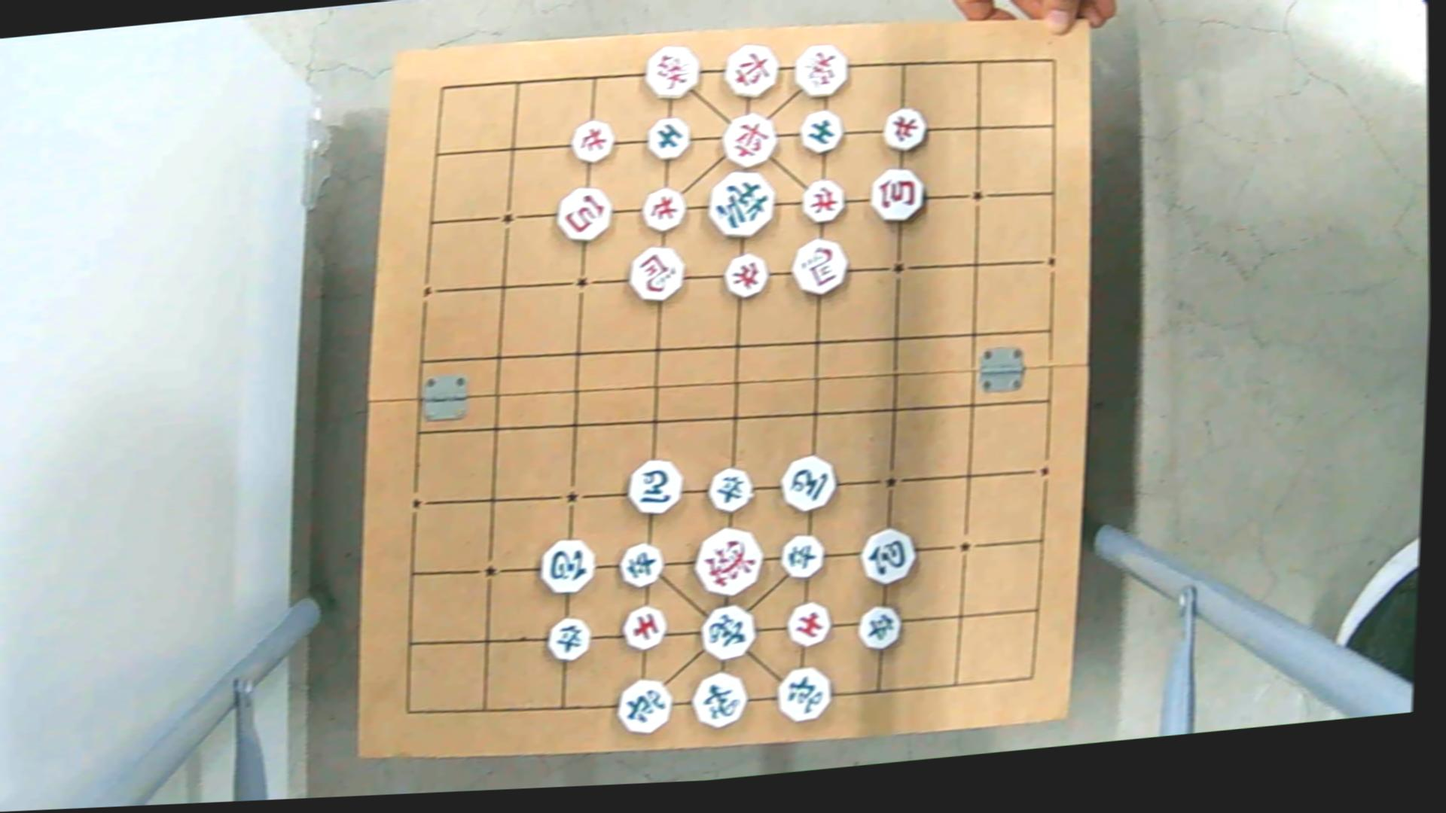cha_green: (612, 674, 676, 735), (770, 666, 834, 725)
cha_red: (719, 40, 783, 97), (721, 114, 781, 168)
jol_green: (703, 467, 753, 513), (615, 540, 664, 586), (854, 604, 902, 650), (776, 531, 823, 577), (541, 619, 590, 662)
jol_red: (638, 185, 688, 233), (719, 254, 767, 300), (877, 108, 926, 153), (797, 181, 845, 224), (568, 120, 616, 161)
ma_green: (777, 454, 837, 511), (621, 458, 682, 514)
ma_red: (624, 247, 685, 303), (789, 239, 848, 295)
po_green: (854, 527, 916, 583), (534, 540, 595, 594)
po_red: (554, 187, 613, 242), (867, 168, 927, 222)
sa_green: (795, 107, 845, 157), (643, 115, 692, 160)
sa_red: (780, 599, 830, 644), (618, 604, 667, 647)
sang_green: (695, 601, 757, 659), (688, 671, 749, 727)
sang_red: (790, 45, 850, 100), (639, 46, 700, 99)
wang_green: (701, 169, 775, 239)
wang_red: (685, 530, 764, 596)
